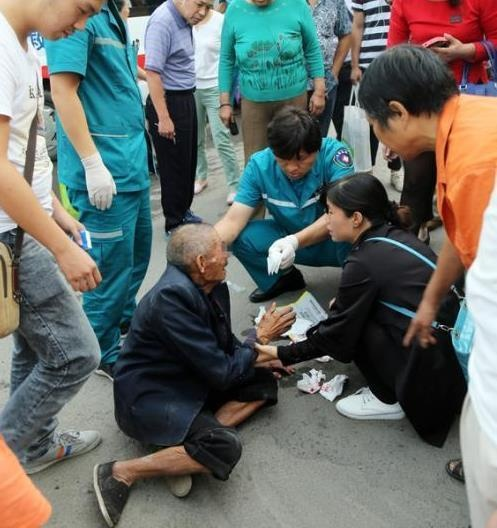falling: (91, 210, 297, 522)
